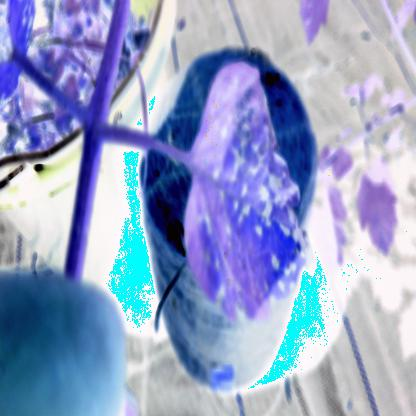tomato septoria leaf spot: (174, 56, 314, 352)
